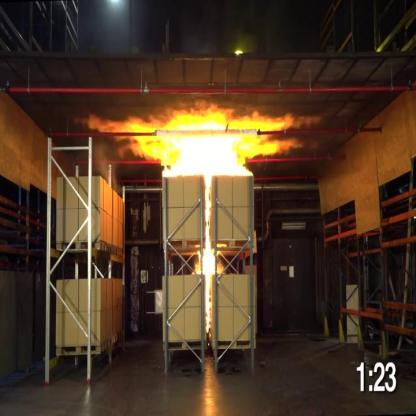fire: (72, 105, 323, 175), (192, 179, 227, 337)
